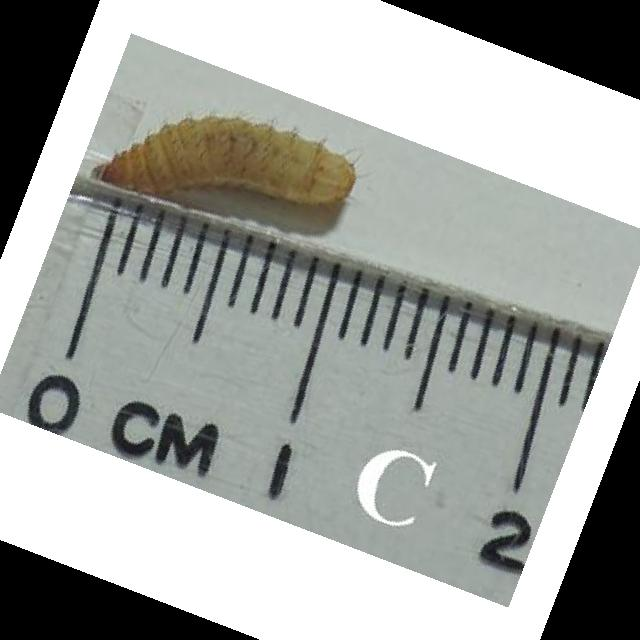Maggot: (92, 108, 355, 214)
